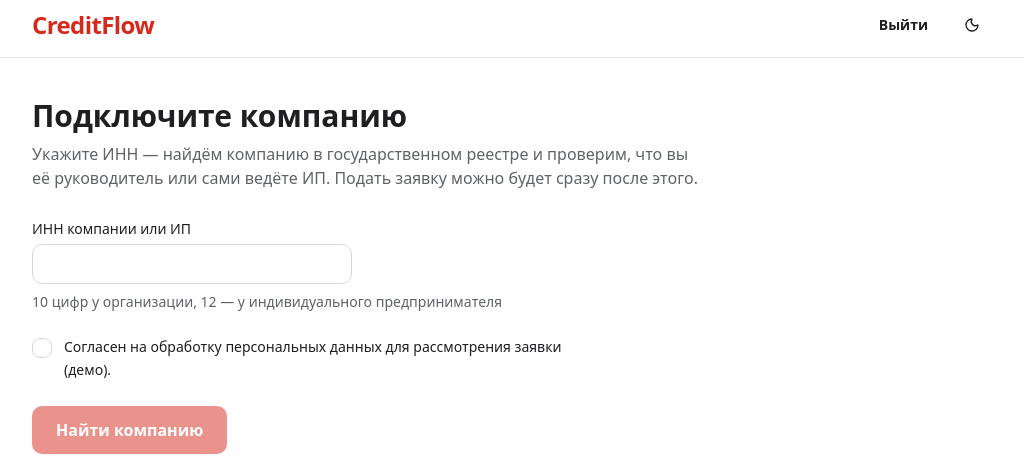
привязка компании › без согласия кнопка неактивна, согласие по умолчанию не отмечено
This screenshot has width=1024, height=471.
Expected: the heading "Подключите компанию" is shown, 32,95 -> 407,136
Expected: the text "обработку персональных данных" is shown, 64,337 -> 562,379
Click the checkbox at (42, 348), box 32,338 -> 52,358
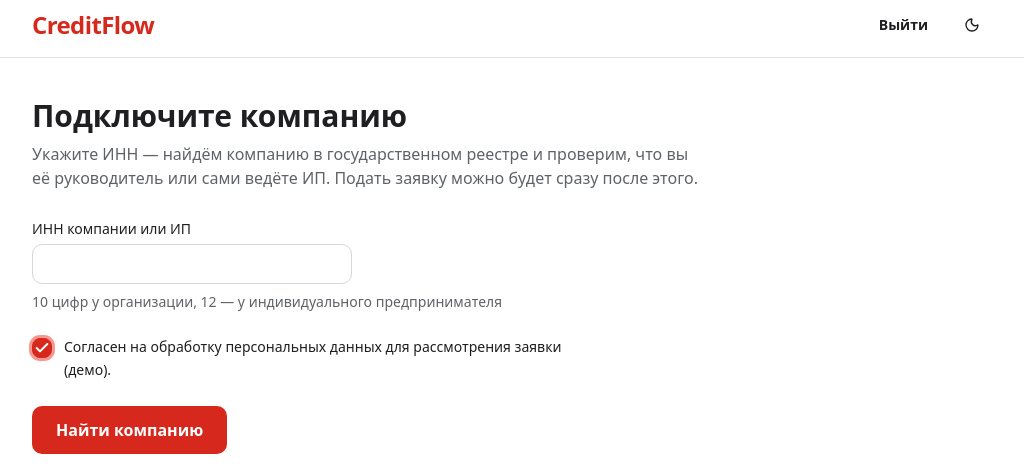
Result: the button "Найти компанию" is enabled at 32,406 -> 227,454
